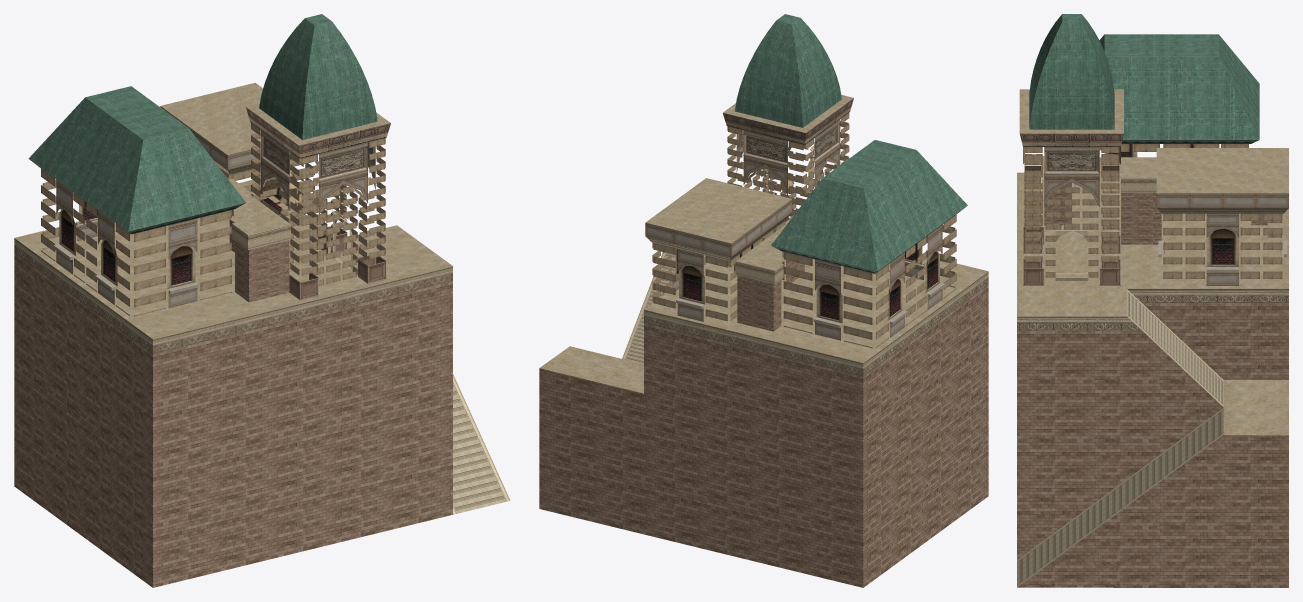
The model's file is ply_nboo_house_sm_s02_fp1_r0_mesh_l0.fbx.
The picture shows the model from 3 angles, left to right: view 1: azimuth 30°, elevation 25°; view 2: azimuth 150°, elevation 25°; view 3: azimuth 270°, elevation 25°; orthographic projection. The views are drawn at different scales.
Visible parts, largest first — view 1: mesh_node; view 2: mesh_node; view 3: mesh_node.
Part boxes in pixels (<box>): mesh_node: <box>14,14,510,587</box>; mesh_node: <box>539,14,988,587</box>; mesh_node: <box>1017,14,1288,587</box>.
Bounding box in the file's own units: 24.94 × 33.22 × 16.67.
